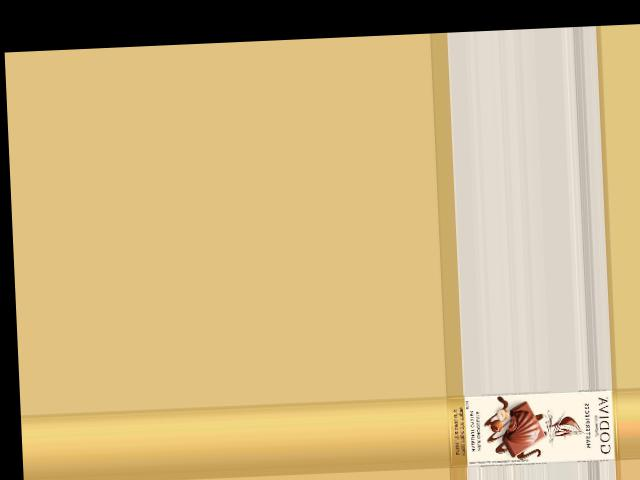chocolate: (447, 388, 619, 466)
